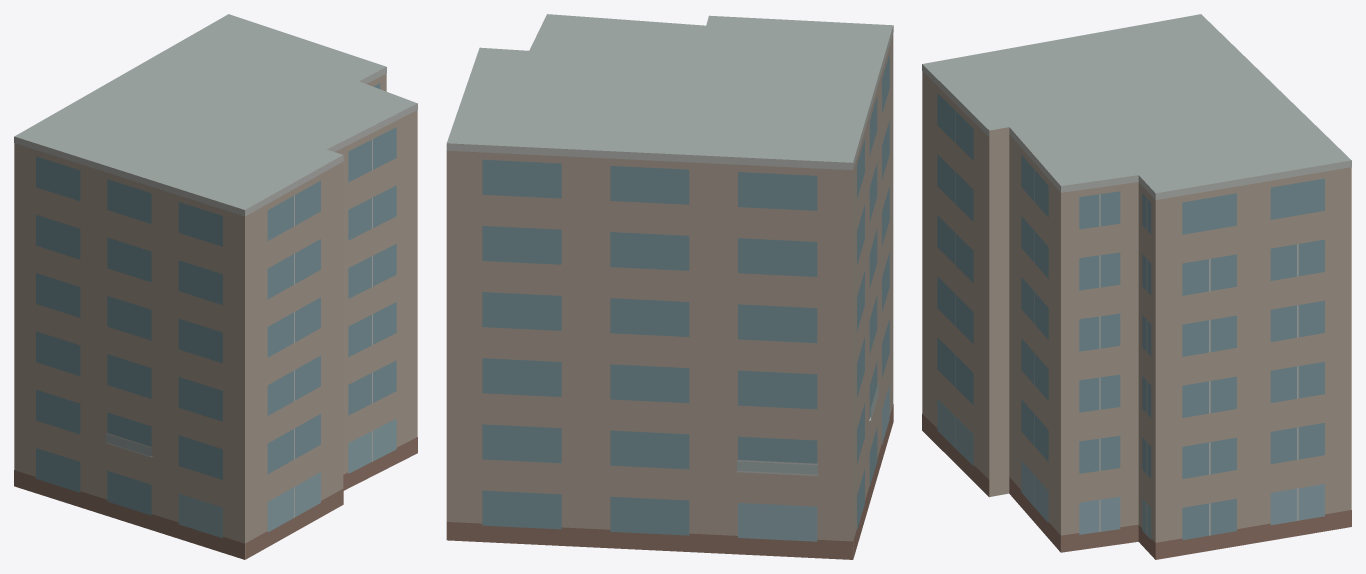
File: survey-upis-32853052.glb
The picture shows the model from 3 angles, left to right: view 1: azimuth 30°, elevation 25°; view 2: azimuth 150°, elevation 25°; view 3: azimuth 270°, elevation 25°; orthographic projection. The views are drawn at different scales.
Visible parts, largest first — view 1: survey-upis-32853052.tmp; view 2: survey-upis-32853052.tmp; view 3: survey-upis-32853052.tmp.
Part boxes in pixels (<box>): survey-upis-32853052.tmp: <box>14,14,417,559</box>; survey-upis-32853052.tmp: <box>446,14,893,559</box>; survey-upis-32853052.tmp: <box>922,14,1351,559</box>.
Size of the model in its own units: 13.81 by 13.15 by 13.98.
